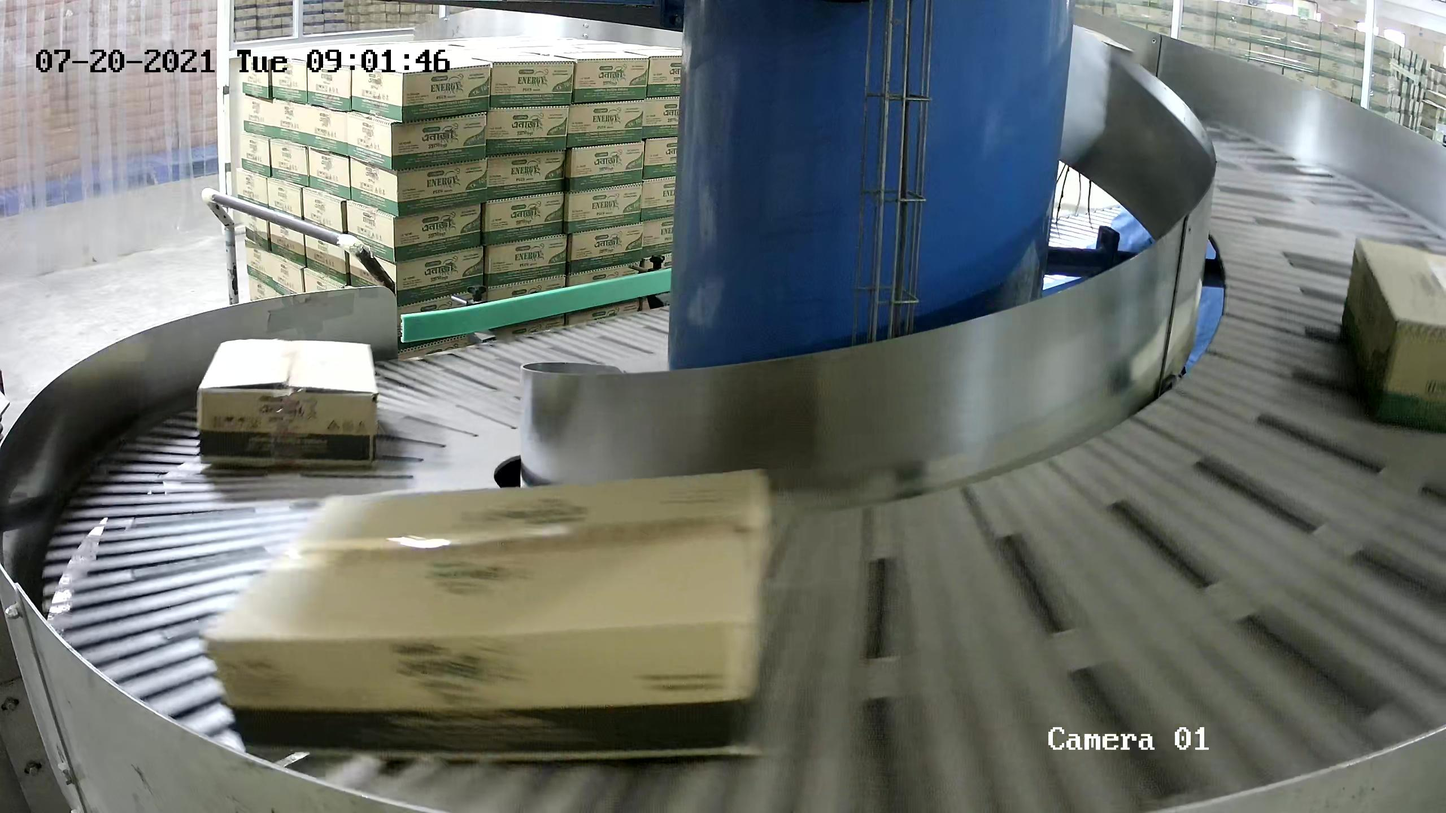Box: (199, 462, 777, 767), (194, 336, 381, 469), (1339, 233, 1446, 432)
